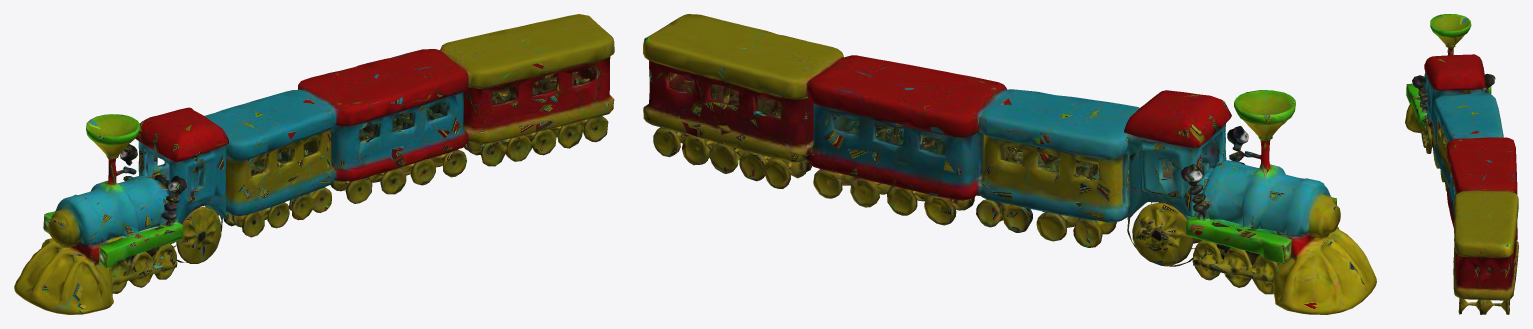
3 renders of one model, left to right at view 1: azimuth 30°, elevation 25°; view 2: azimuth 150°, elevation 25°; view 3: azimuth 270°, elevation 25°, orthographic. The views are drawn at different scales.
Bounding box in the file's own units: 1.9 × 0.4697 × 0.4055.
Materials: 1 (1 with a texture image).
